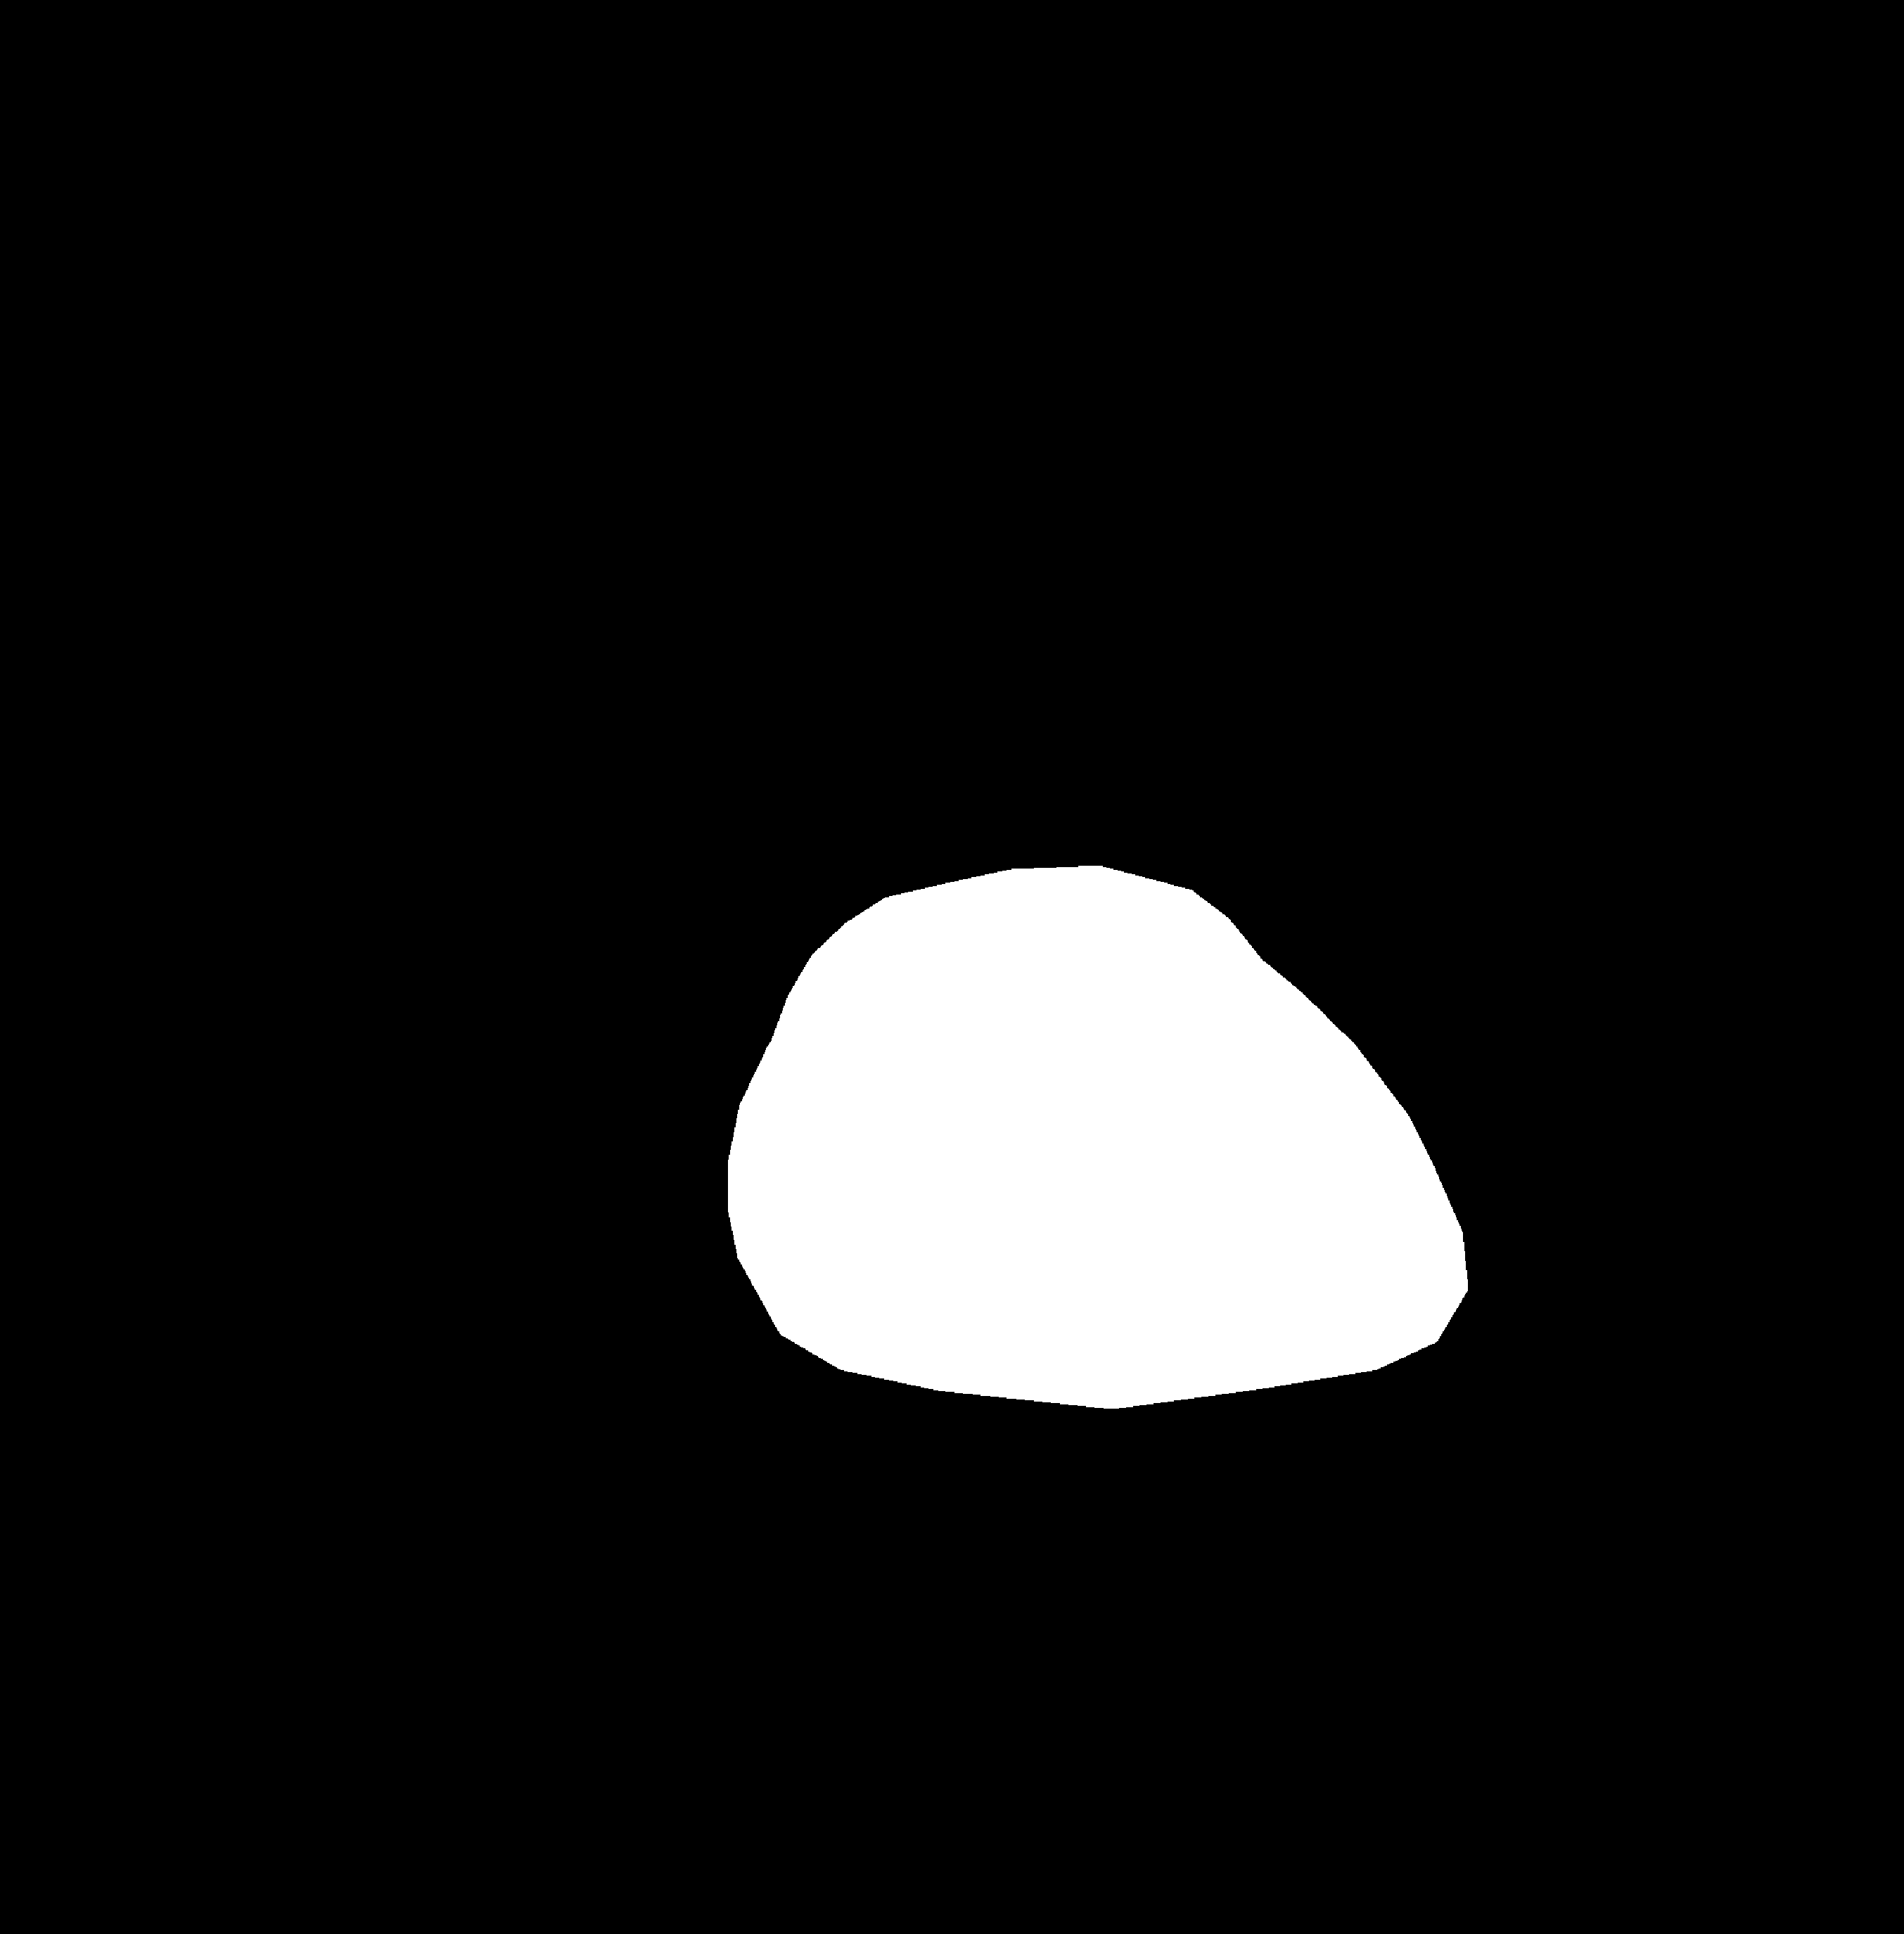heart: (729, 963, 1466, 1425)
left_lung: (235, 277, 889, 1447)
right_lung: (1062, 267, 1670, 1493)
